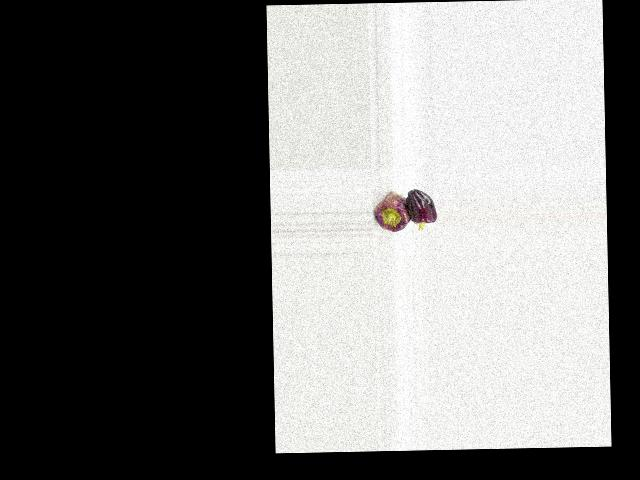bell_pepper: (372, 183, 411, 240)
